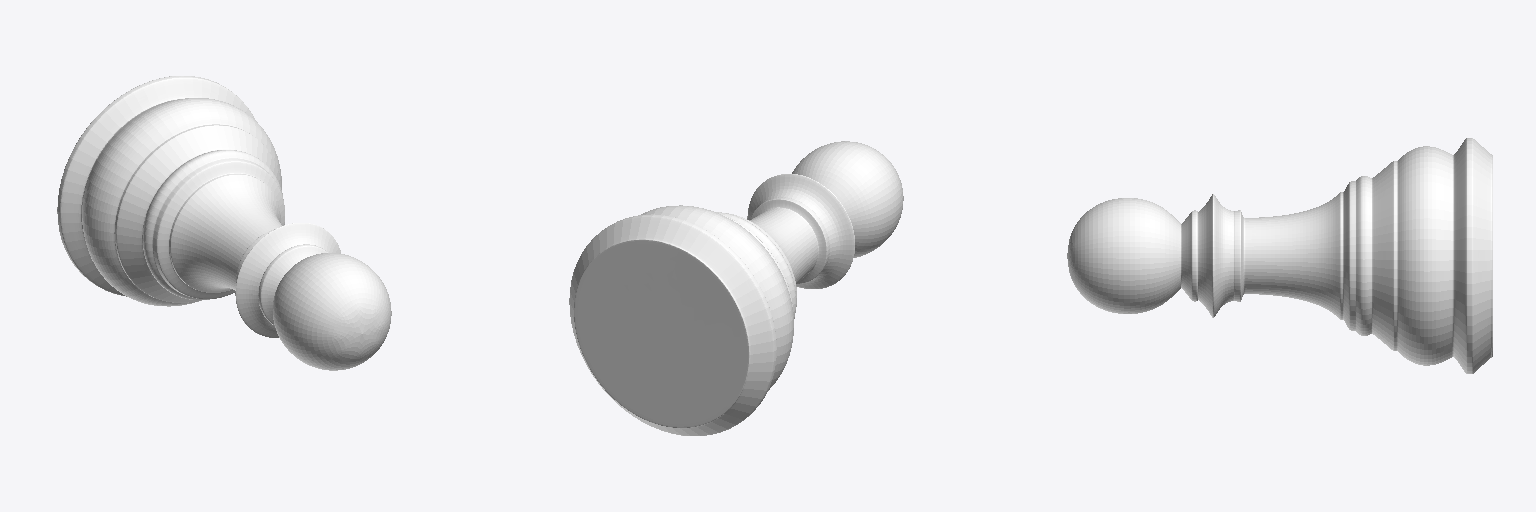
Rendered from WPawn.obj.
3 views of the same model, side by side, from view 1: azimuth 30°, elevation 25°; view 2: azimuth 150°, elevation 25°; view 3: azimuth 270°, elevation 25° (orthographic).
Visible parts, largest first — view 1: 12931_WoodenChessPawnSideA_v1_l3; view 2: 12931_WoodenChessPawnSideA_v1_l3; view 3: 12931_WoodenChessPawnSideA_v1_l3.
Boxes of the visible parts, x1,y1,x2,y2 form: 12931_WoodenChessPawnSideA_v1_l3: [57, 76, 391, 370]; 12931_WoodenChessPawnSideA_v1_l3: [569, 141, 903, 435]; 12931_WoodenChessPawnSideA_v1_l3: [1067, 138, 1492, 373].
Bounding box in the file's own units: 4.47 × 4.47 × 8.03.